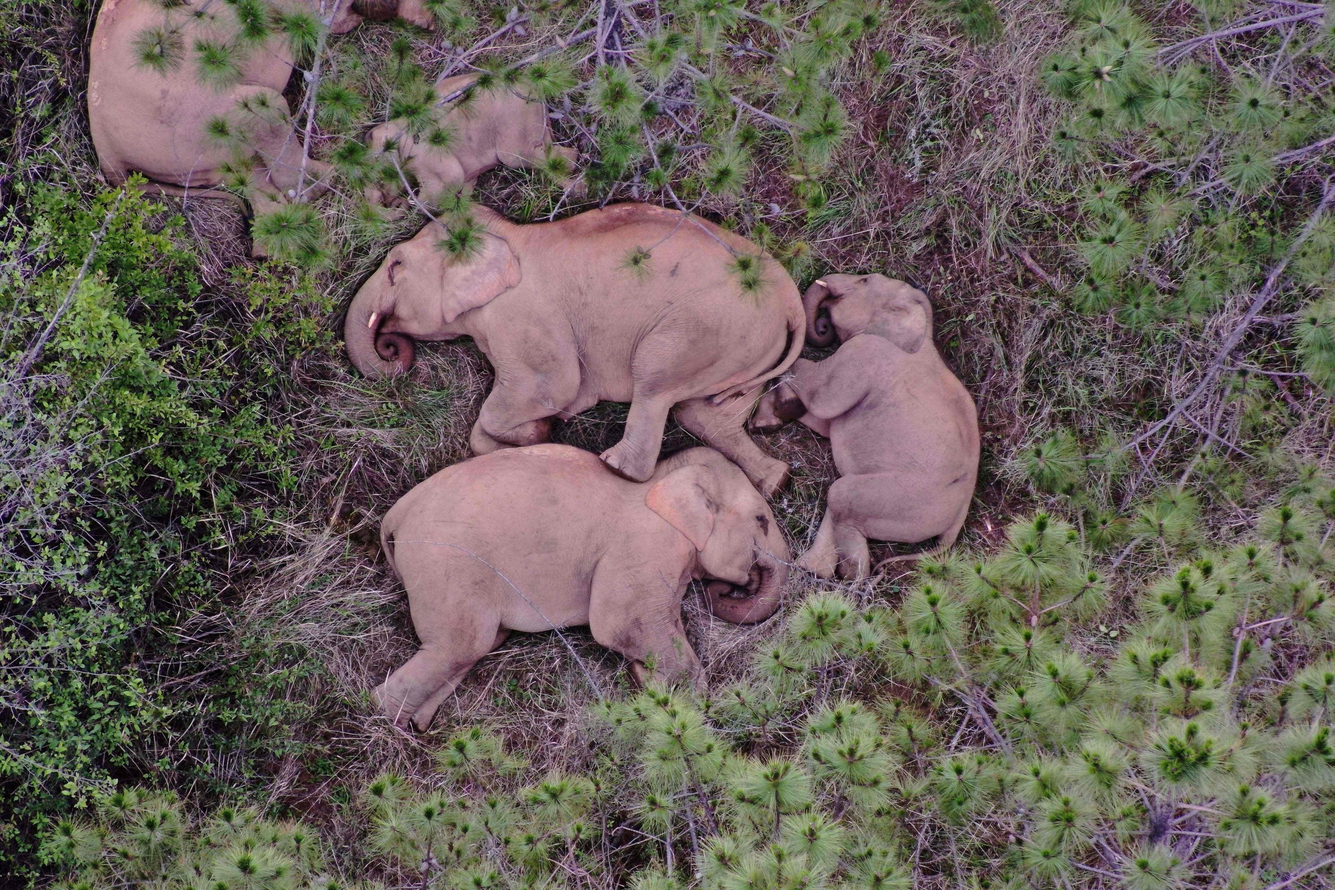Adult Elephant: (389, 433, 790, 701), (391, 212, 792, 416)
Baby Elephant: (819, 243, 959, 618), (322, 83, 628, 200)
